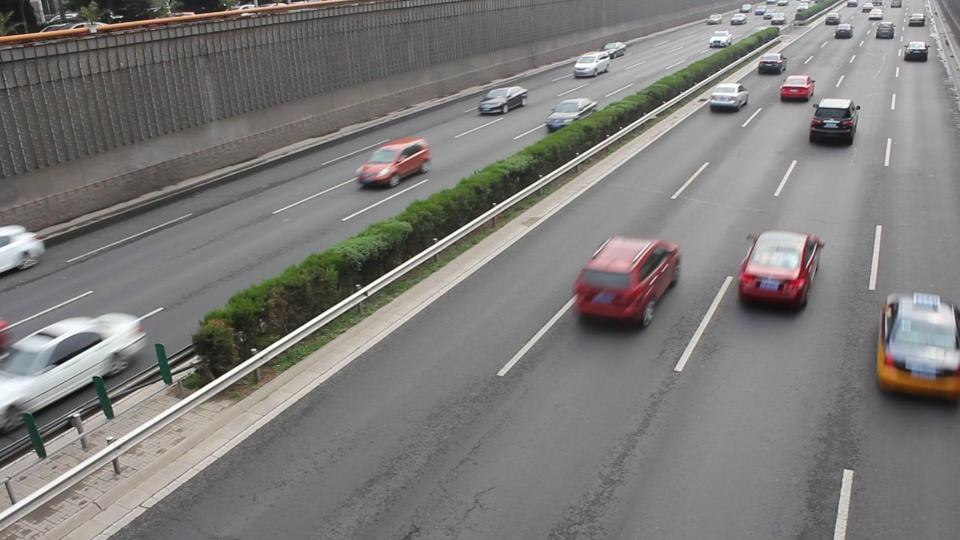bus: (876, 292, 960, 400)
car: (1, 312, 151, 434), (572, 234, 683, 327), (737, 230, 825, 310), (355, 135, 433, 189), (809, 97, 861, 145), (0, 224, 47, 275), (545, 98, 600, 133), (478, 86, 528, 115), (708, 83, 751, 112), (572, 51, 612, 78), (778, 74, 816, 102), (758, 53, 787, 75), (0, 316, 14, 357), (904, 40, 929, 61), (601, 41, 628, 59), (709, 31, 734, 49), (875, 22, 896, 39), (834, 23, 853, 39), (907, 12, 925, 26), (729, 14, 747, 25), (868, 9, 884, 20), (825, 15, 841, 25)
